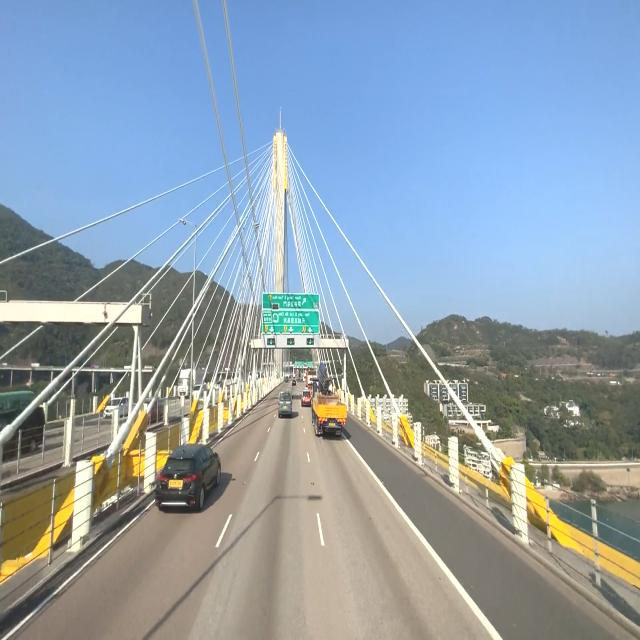Vehicle: (155, 436, 226, 520), (308, 362, 344, 438), (276, 389, 291, 420)
